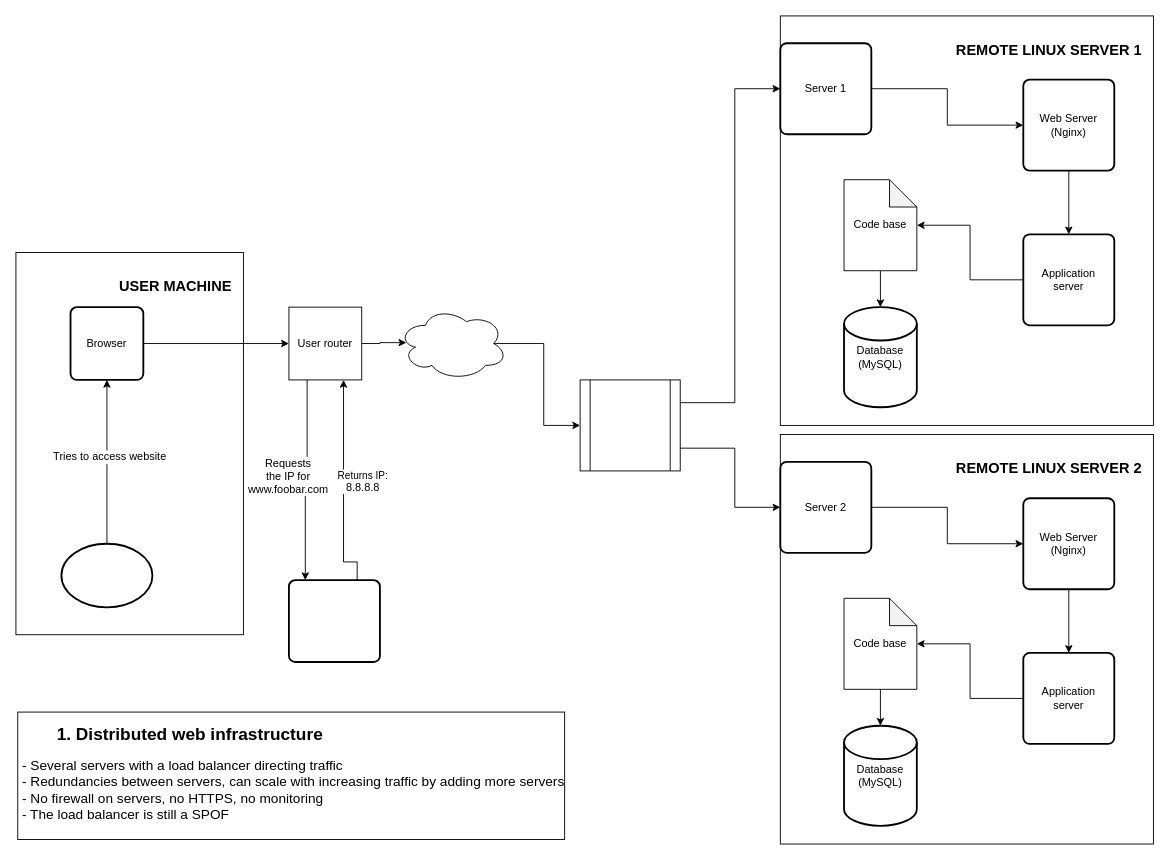
This 1169x867 diagram has some shape labels left out. Here are the shapes that lost their labels. From the top down, the centre of each, then its label:
At [452,343]: "Internet".
At [629,425]: "Load balancer (HAproxy)".
At [106,575]: "User".
At [334,620]: "DNS server".
